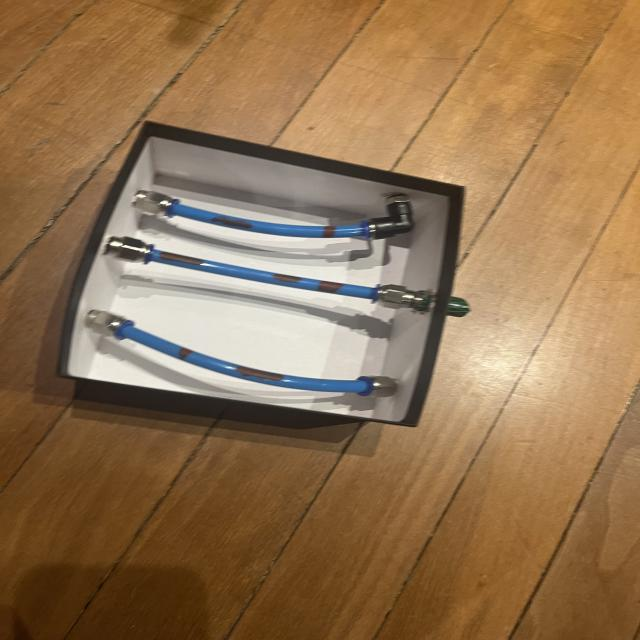hose_damage: (230, 364, 289, 384), (155, 250, 210, 268), (209, 214, 256, 231), (314, 279, 347, 295), (269, 273, 307, 284), (322, 224, 338, 240)
